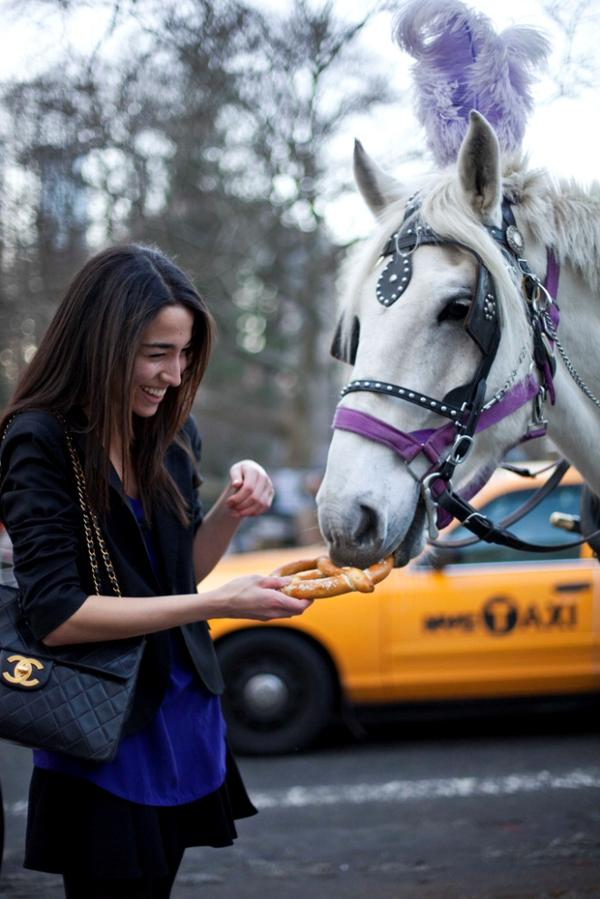person: (3, 246, 310, 899)
